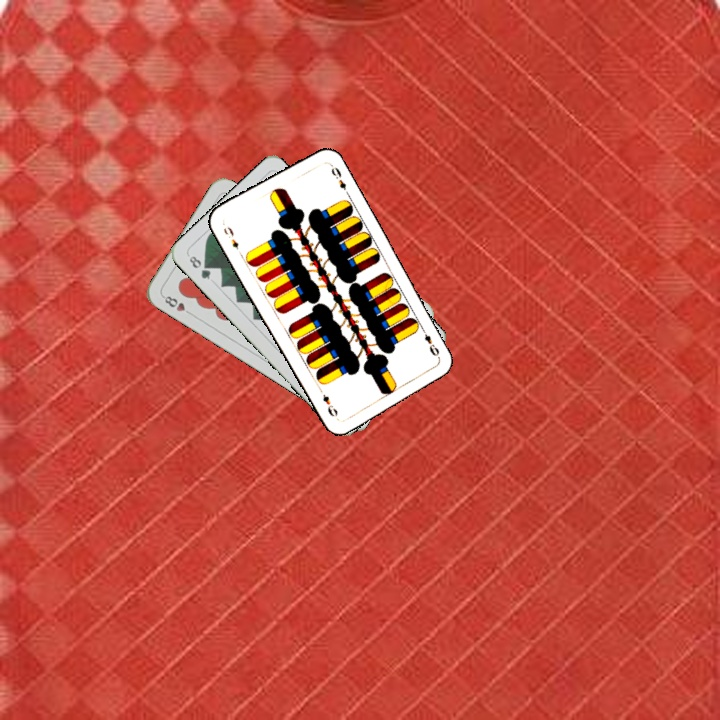E9: (418, 324, 442, 359), (219, 222, 241, 252)
G8: (185, 252, 214, 282)
H8: (159, 291, 195, 318)
